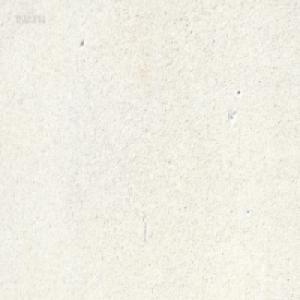Wrench: (150, 0, 156, 4)
